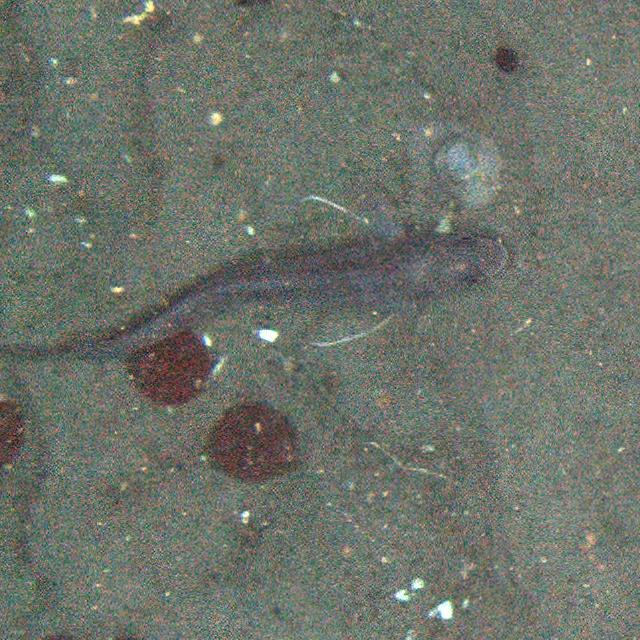roundfish: (89, 198, 510, 374)
